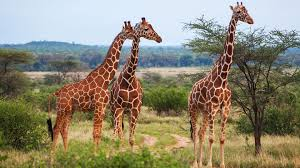Jirafa: (115, 11, 173, 55), (215, 2, 259, 43)
